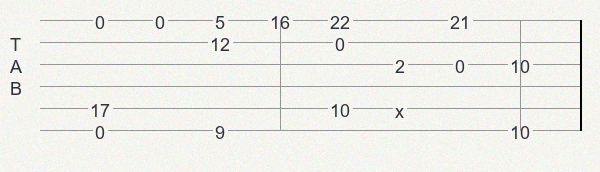0: (95, 12, 109, 29), (95, 122, 109, 139), (155, 12, 169, 29), (335, 34, 349, 51), (455, 56, 469, 73)
10: (330, 100, 354, 117), (510, 56, 534, 73), (510, 122, 534, 139)
12: (210, 34, 234, 51)
16: (270, 12, 294, 29)
17: (90, 100, 114, 117)
2: (395, 56, 409, 73)
21: (450, 12, 474, 29)
22: (330, 12, 354, 29)
5: (215, 12, 229, 29)
9: (215, 122, 229, 139)
x: (395, 101, 408, 115)
